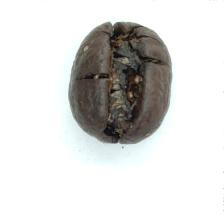NG: (95, 26, 155, 138)
